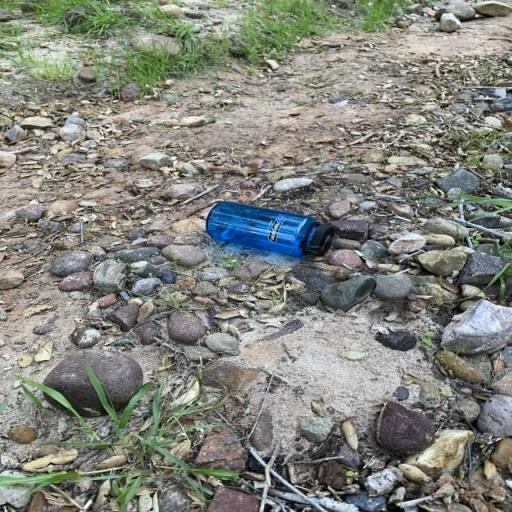bottle: (206, 200, 336, 258)
